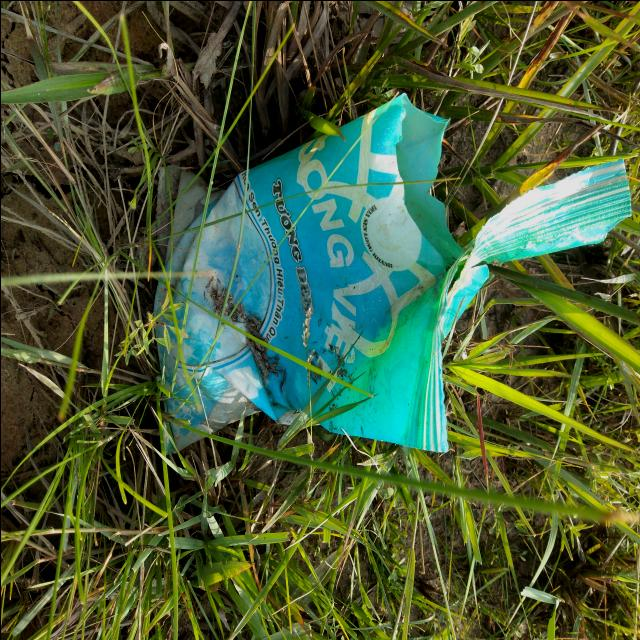Other plastic: (152, 91, 631, 454)
